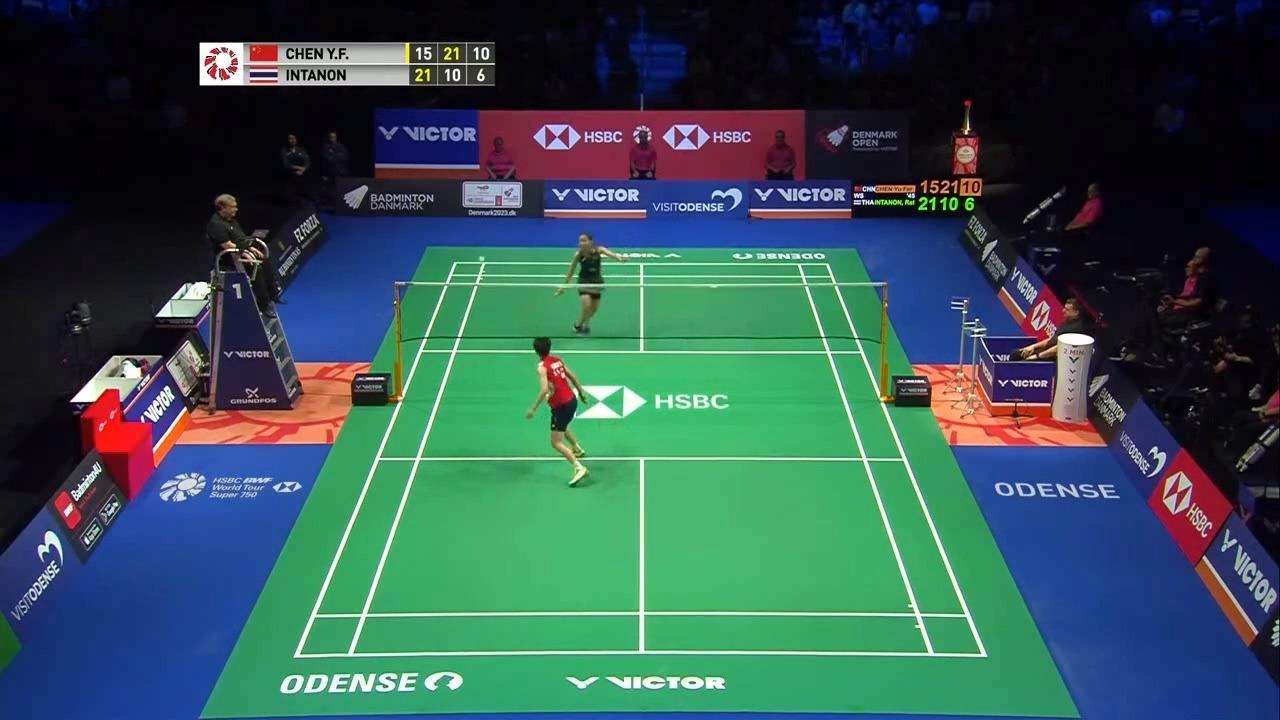shuttle: (479, 254, 488, 264)
